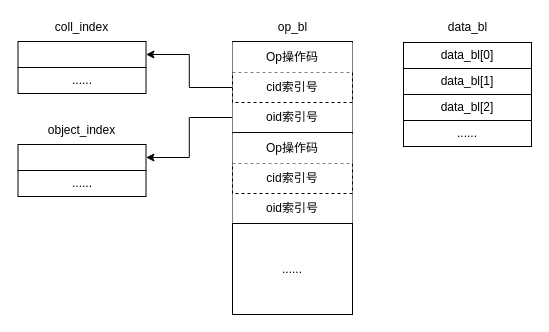
The diagram is 549 pixels wide and 332 high, and some of its shapes have lost their labels. Each missing label, with the centre of its shape:
"coll_index[0]" belongs at (81,54).
"object_index[0]" belongs at (81,157).
